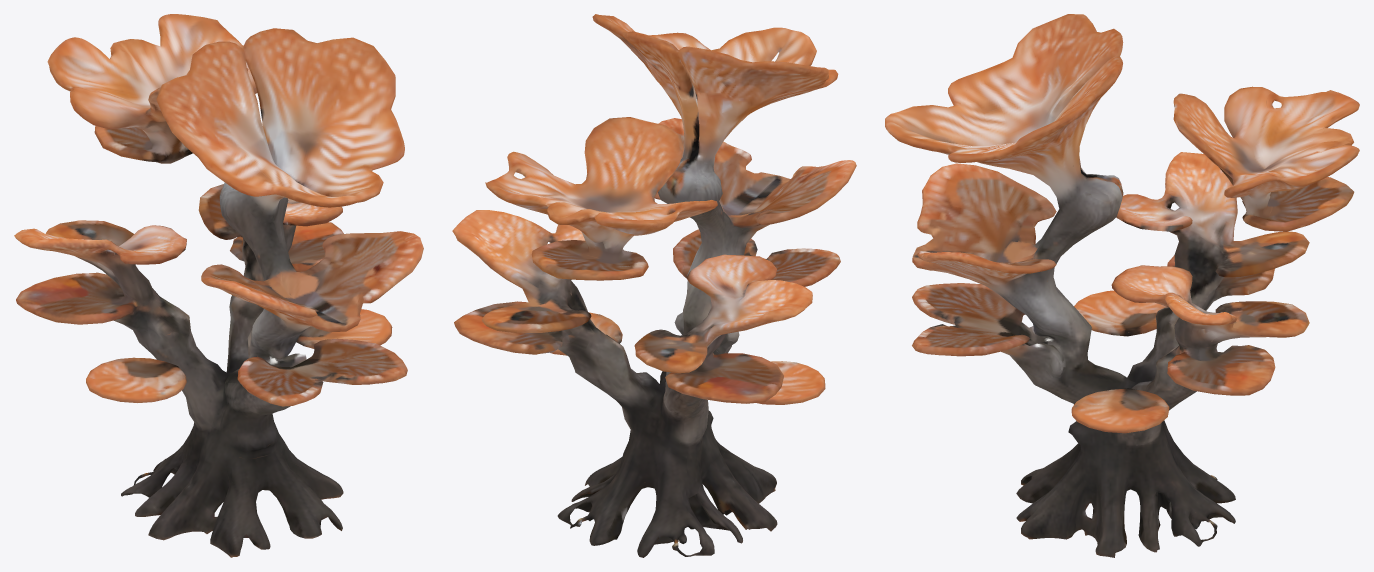
File: base_basic_shaded.fbx
3 views of the same model, side by side, from view 1: azimuth 30°, elevation 25°; view 2: azimuth 150°, elevation 25°; view 3: azimuth 270°, elevation 25° (orthographic). The views are drawn at different scales.
Visible parts, largest first — view 1: model; view 2: model; view 3: model.
Boxes of the visible parts, x1=… form: model: x1=14, y1=14, x2=423, y2=557; model: x1=452, y1=14, x2=856, y2=557; model: x1=885, y1=14, x2=1359, y2=557.
Bounding box in the file's own units: 145 × 188 × 174.
